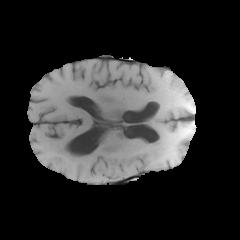glioma: (54, 108, 193, 177)
